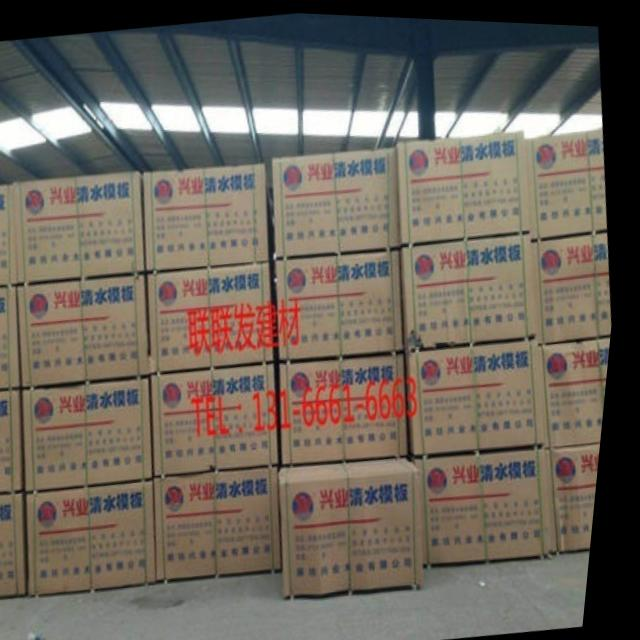box: (288, 453, 437, 594), (414, 333, 553, 454), (423, 444, 565, 562), (407, 228, 543, 349), (14, 169, 151, 283), (399, 125, 534, 240), (29, 376, 162, 491), (22, 274, 157, 387), (37, 479, 167, 595), (163, 465, 294, 580), (274, 143, 406, 255), (159, 361, 289, 474), (286, 349, 417, 461), (153, 261, 281, 372), (281, 247, 410, 357), (145, 161, 274, 270), (527, 124, 611, 239), (536, 226, 617, 340), (544, 329, 617, 444), (553, 438, 608, 547), (0, 491, 39, 599), (0, 387, 34, 493), (0, 283, 29, 390), (0, 184, 24, 286)
